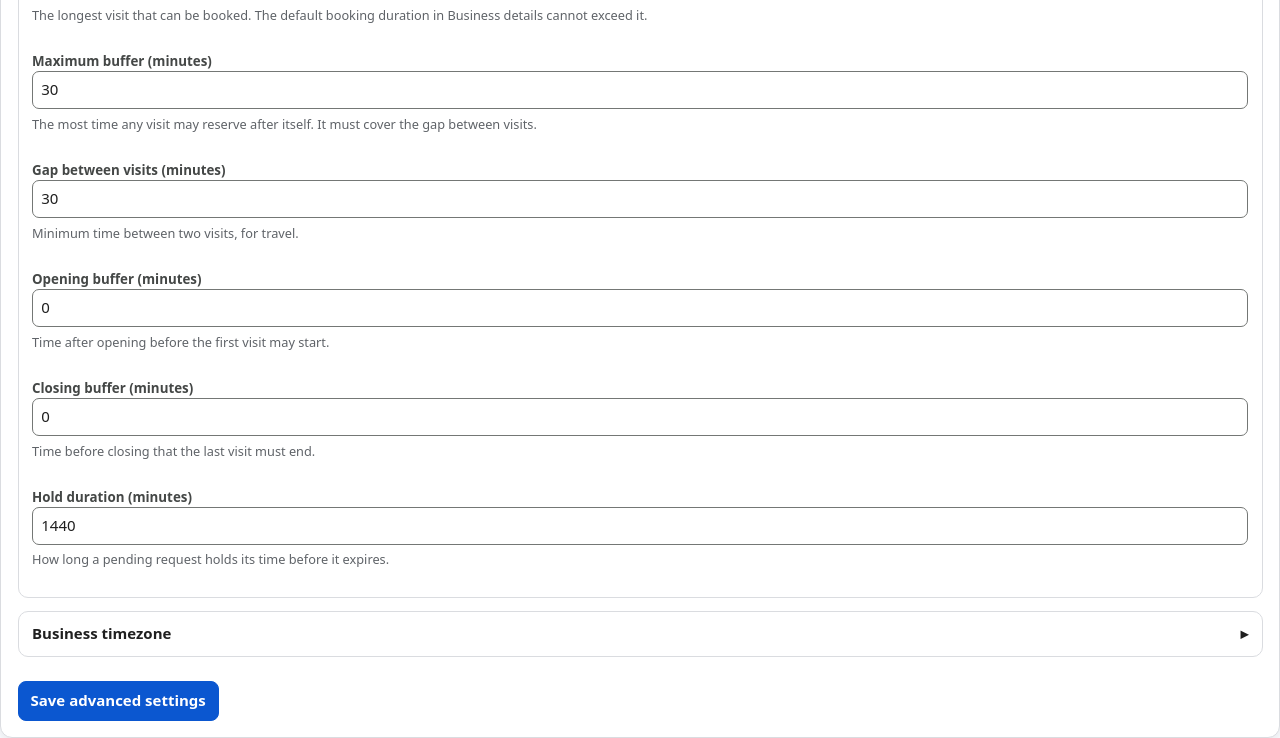
Test case: Scheduling policy settings › rejects an unknown timezone
(page scrolled)
Replace the text in the field labelled "Business timezone ▸" with "Mars/Olympus" at (640, 634), box [18, 611, 1262, 658]
(page scrolled)
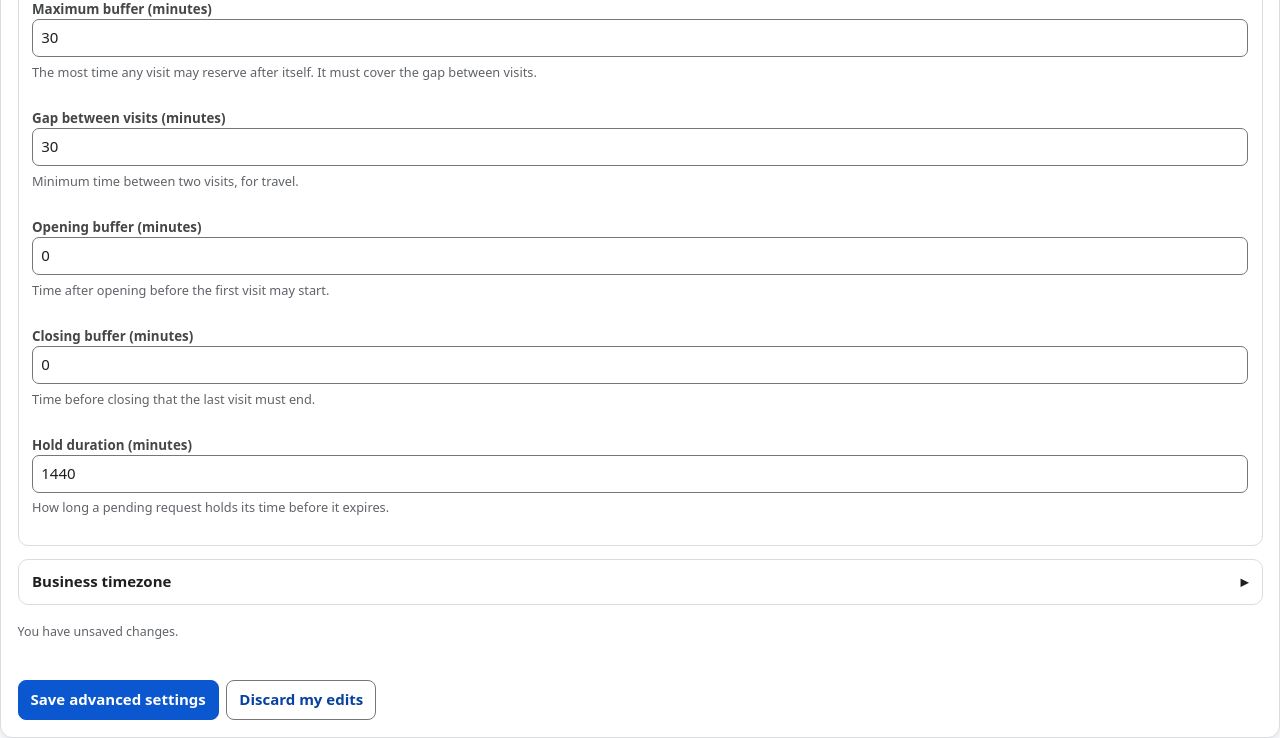
Click the button "Save advanced settings" at (118, 700), box [18, 680, 219, 720]
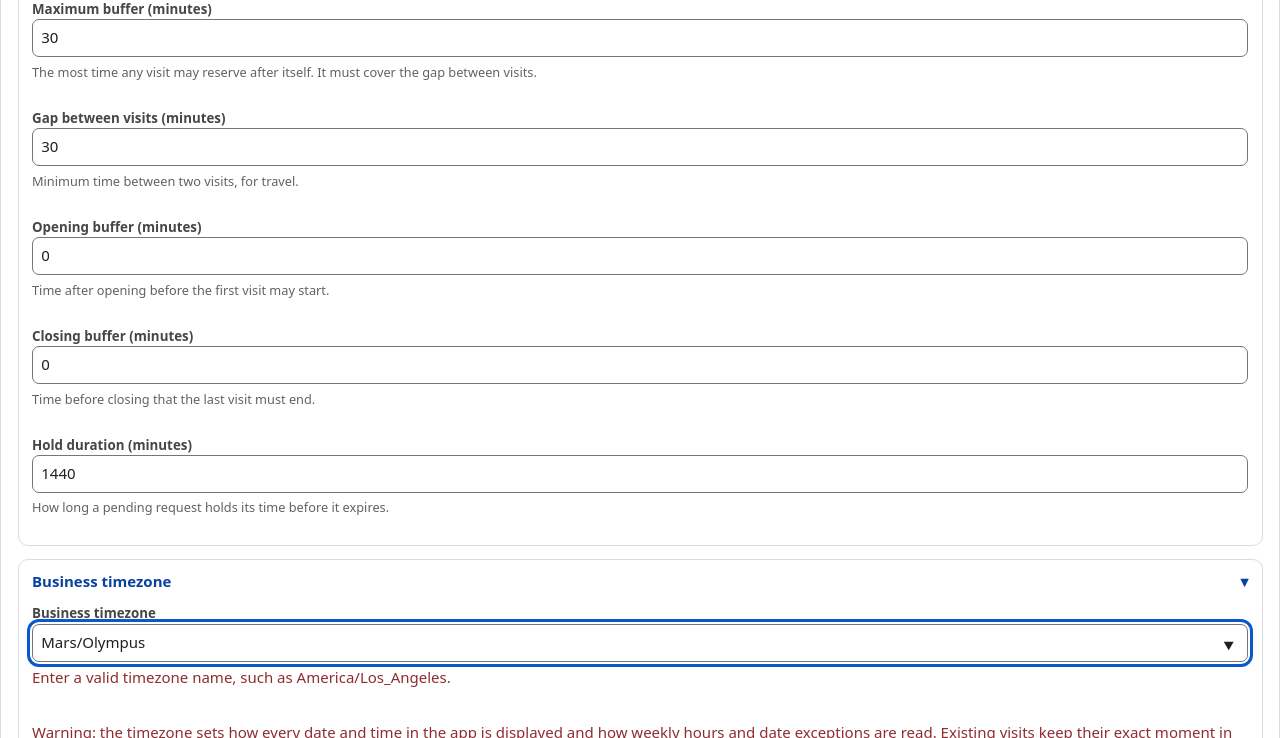
Check: the text "Enter a valid timezone name" is shown, box [32, 667, 451, 687]
